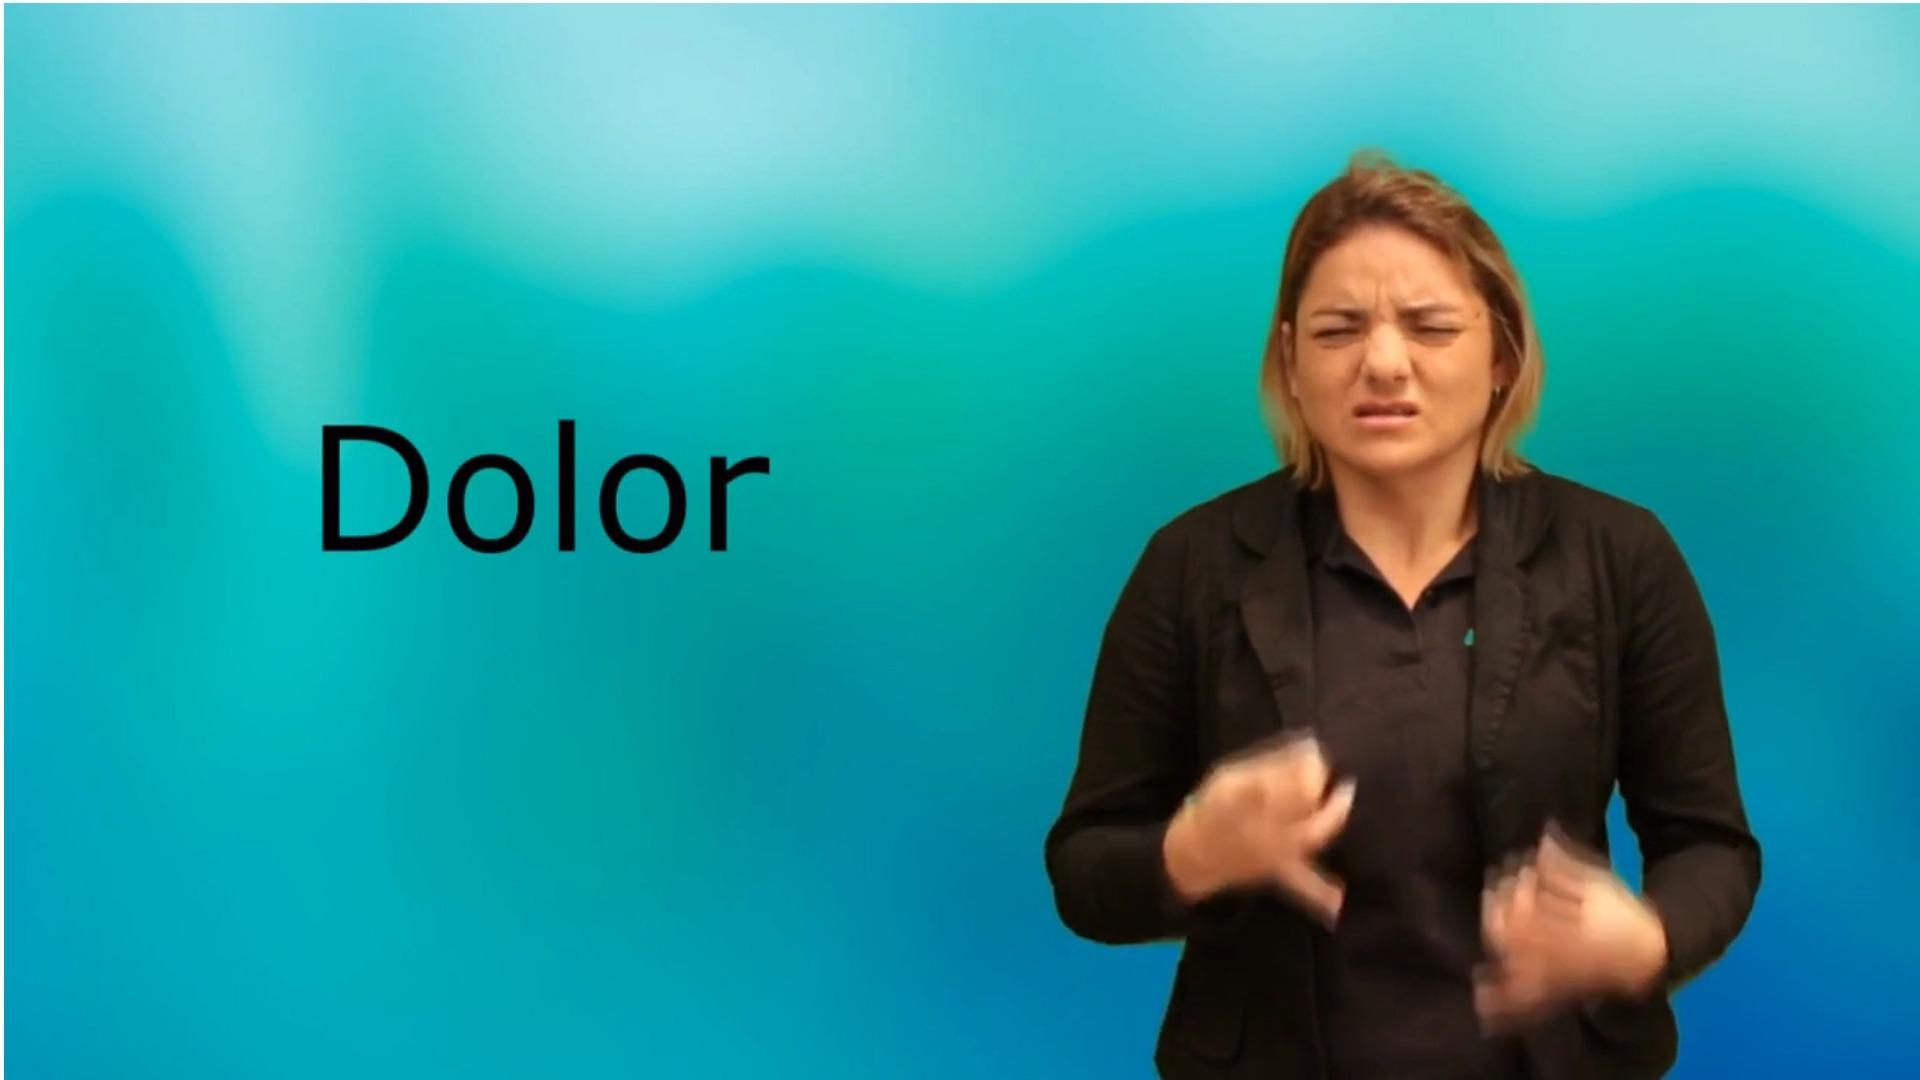Dolor: (1017, 157, 1779, 1015)
